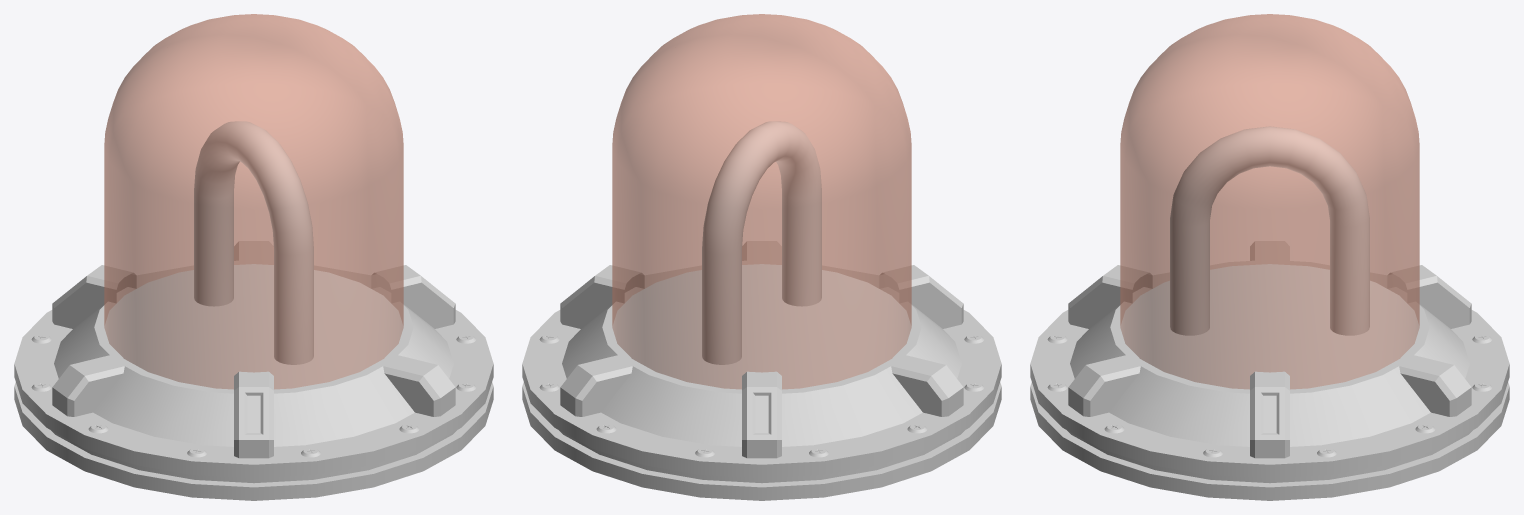
Rendered from light.fbx.
3 renders of one model, left to right at view 1: azimuth 30°, elevation 25°; view 2: azimuth 150°, elevation 25°; view 3: azimuth 270°, elevation 25°, orthographic.
Visible parts, largest first — view 1: Component_3_1, Component_1_1, Component_4_1, Component_5_3, Component_2_1, Component_2_2, Component_5_1, Component_5_2, Component_2_3; view 2: Component_3_1, Component_1_1, Component_4_1, Component_5_1, Component_2_2, Component_2_3, Component_5_2, Component_5_3, Component_2_1; view 3: Component_3_1, Component_1_1, Component_4_1, Component_5_2, Component_2_1, Component_2_3, Component_5_1, Component_5_3, Component_2_2.
Boxes of the visible parts, box(x1,y1,x2,y2) form: Component_3_1: box(104, 14, 403, 389); Component_1_1: box(14, 260, 493, 500); Component_4_1: box(194, 121, 313, 364); Component_5_3: box(234, 371, 273, 458); Component_2_1: box(383, 355, 455, 416); Component_2_2: box(52, 355, 124, 416); Component_5_1: box(52, 265, 136, 328); Component_5_2: box(371, 265, 455, 328); Component_2_3: box(234, 241, 273, 260); Component_3_1: box(612, 14, 911, 389); Component_1_1: box(522, 260, 1001, 500); Component_4_1: box(702, 121, 821, 364); Component_5_1: box(742, 371, 781, 458); Component_2_2: box(891, 355, 963, 416); Component_2_3: box(560, 355, 632, 416); Component_5_2: box(560, 265, 644, 328); Component_5_3: box(879, 265, 963, 328); Component_2_1: box(742, 241, 781, 260); Component_3_1: box(1120, 14, 1419, 389); Component_1_1: box(1030, 260, 1509, 500); Component_4_1: box(1170, 126, 1369, 335); Component_5_2: box(1250, 371, 1289, 458); Component_2_1: box(1068, 355, 1140, 416); Component_2_3: box(1399, 355, 1471, 416); Component_5_1: box(1387, 265, 1471, 328); Component_5_3: box(1068, 265, 1152, 328); Component_2_2: box(1250, 241, 1289, 260).
Bounding box in the file's own units: 6 × 5 × 6.
